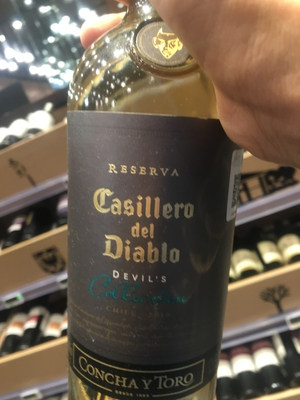casillero del diablo devils collection verde: (53, 13, 248, 400)
